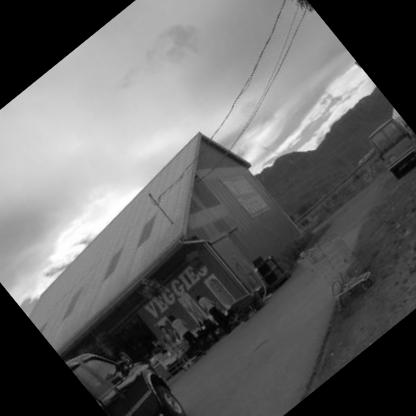car: (64, 313, 208, 416)
